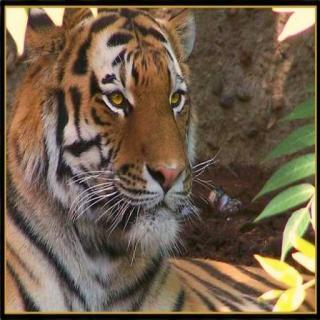Tiger: (5, 9, 227, 316)
